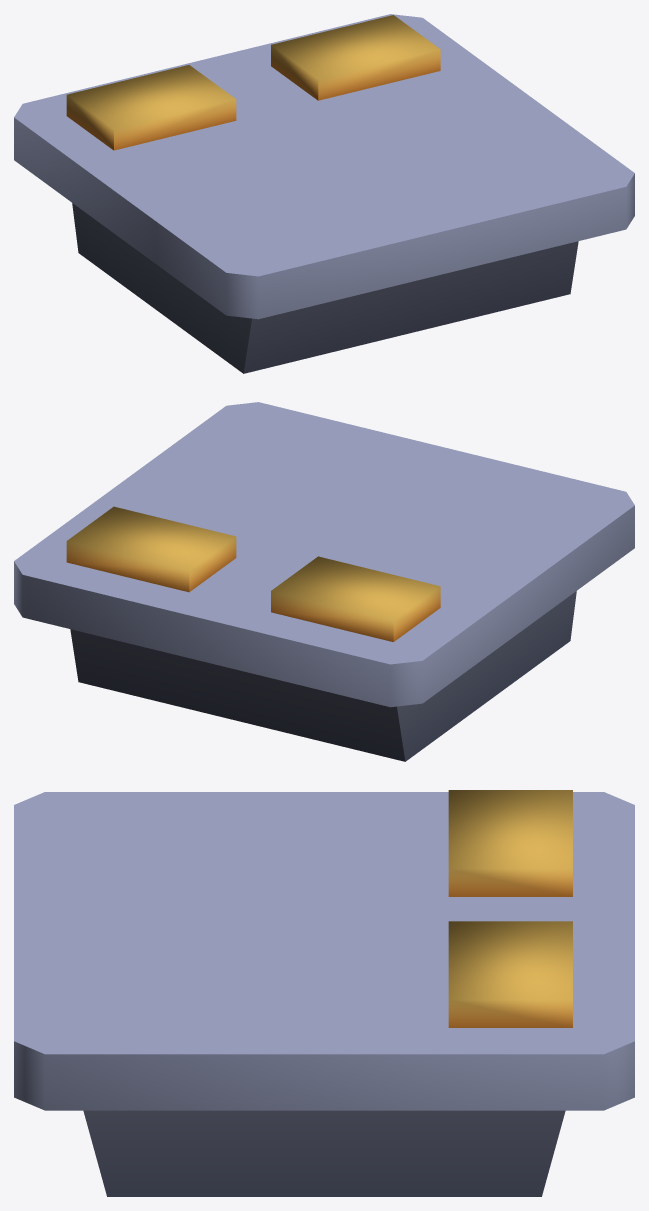
File: bed-double.glb
The picture shows the model from 3 angles, top to bottom: view 1: azimuth 30°, elevation 25°; view 2: azimuth 150°, elevation 25°; view 3: azimuth 270°, elevation 25°; orthographic projection. The views are drawn at different scales.
Visible parts, largest first — view 1: bed-double; view 2: bed-double; view 3: bed-double.
Part boxes in pixels (<box>): bed-double: <box>14,14,634,373</box>; bed-double: <box>14,402,634,761</box>; bed-double: <box>14,790,634,1196</box>.
Bounding box in the file's own units: 1 × 0.35 × 1.
